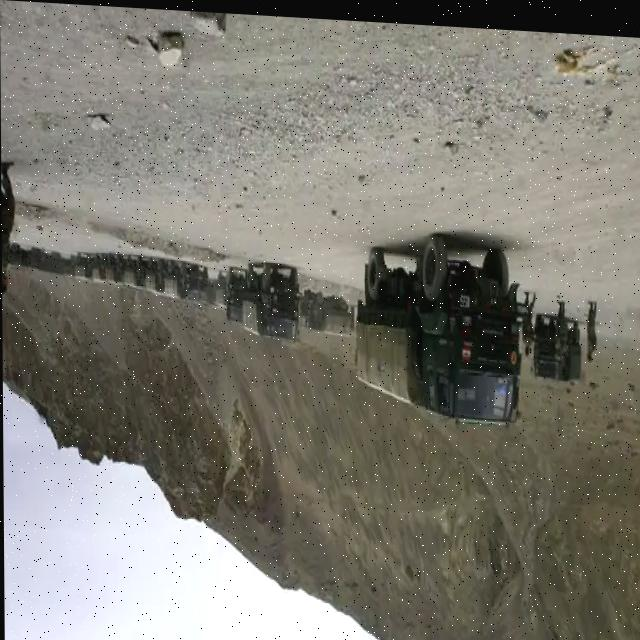unit number: (459, 287, 471, 303)
